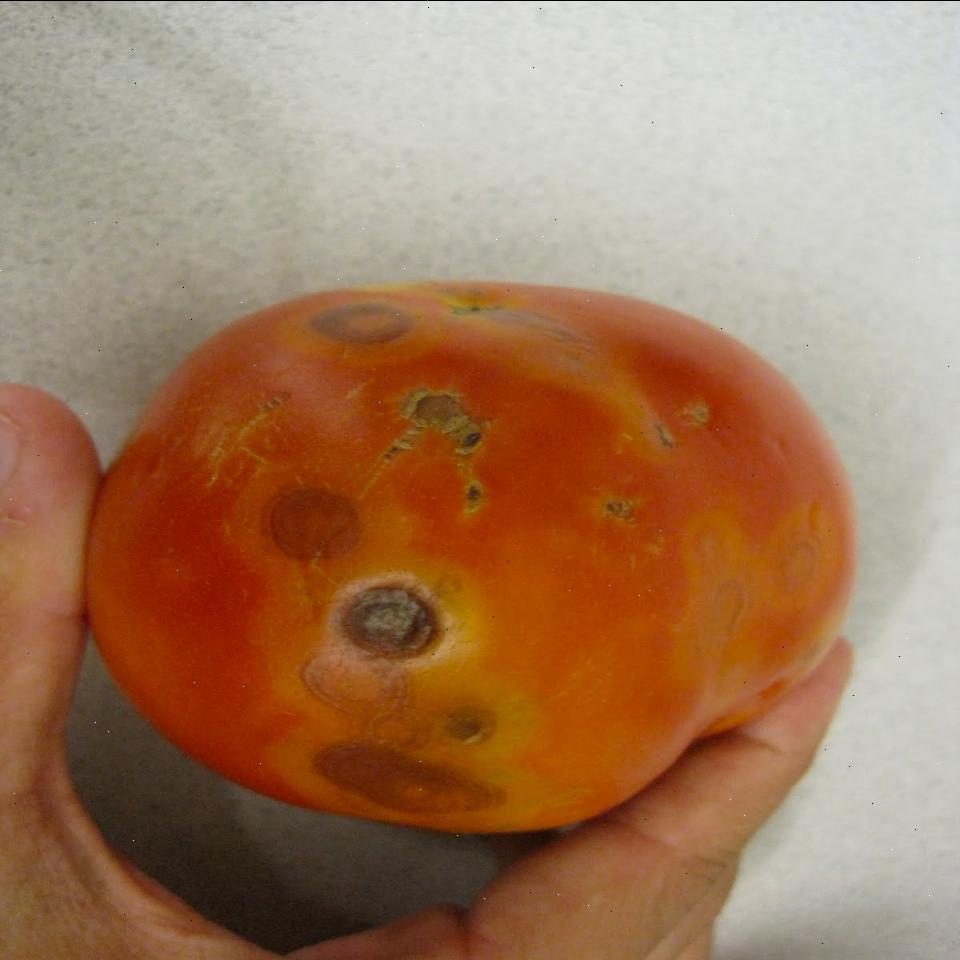Spotted wilt Virus: (82, 279, 855, 832)
